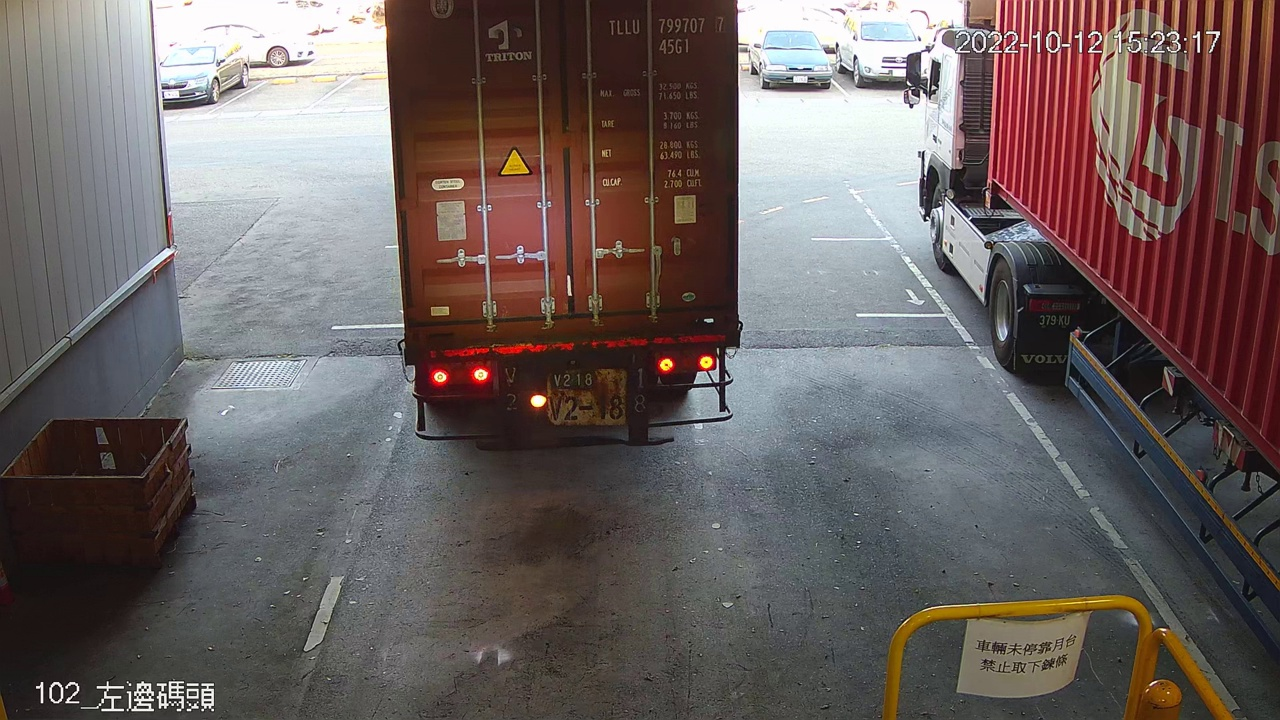container: (602, 11, 734, 61)
